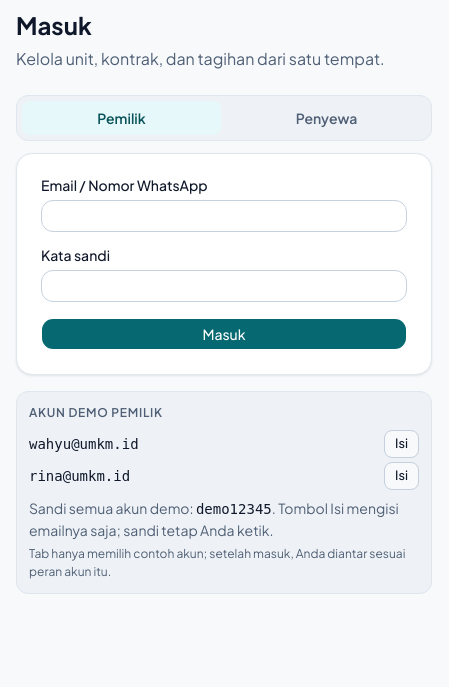
Test: LoginPage › menolak kata sandi pendek tanpa memanggil server
In the password field labelled "Kata sandi": (224, 286) top-left (41, 270), bottom-right (407, 302), type "pendek"
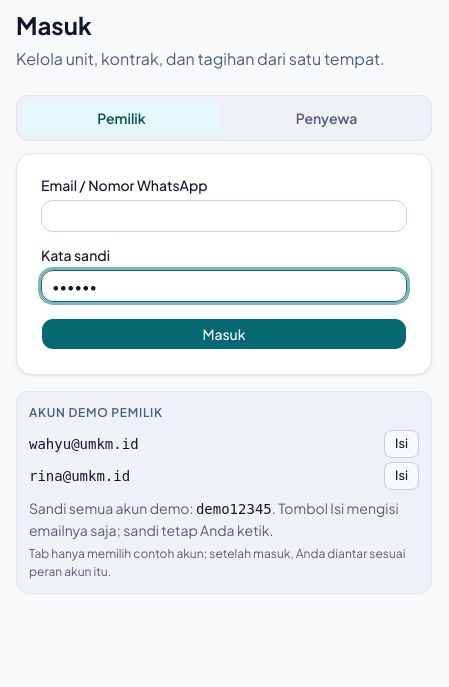
Click the button "Masuk": (224, 334) top-left (41, 318), bottom-right (407, 350)
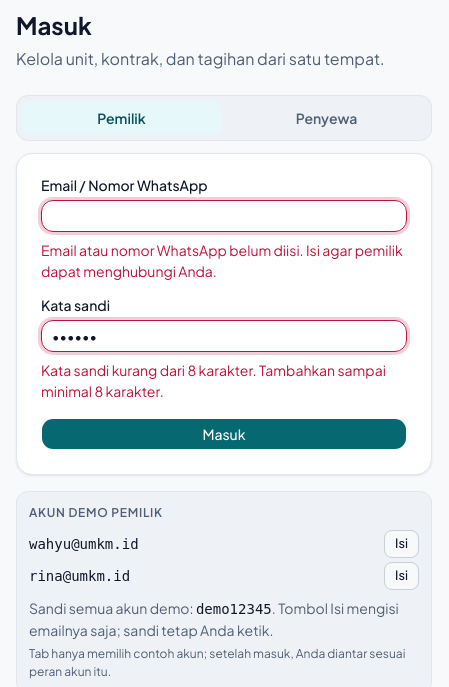
expect the text "Kata sandi kurang dari 8 karakter" is shown: met, box top-left (41, 361), bottom-right (386, 400)
